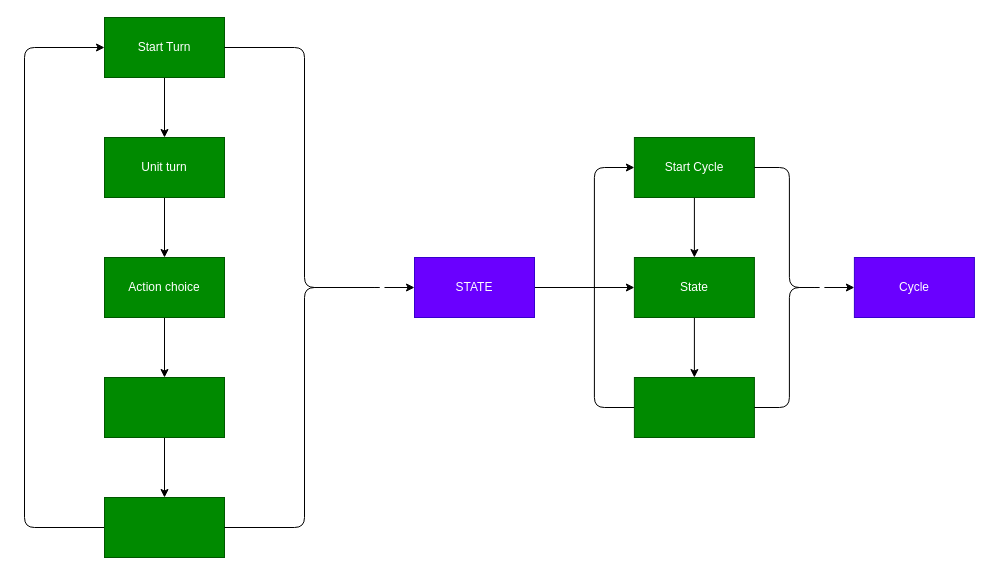
This 992x575 diagram has some shape labels left out. Here are the shapes that lost their labels. From the top down, the centre of each, then its label:
At pixel 164 407: "Skill choice".
At pixel 693 407: "End Clycle".
At pixel 164 527: "End Turn".
